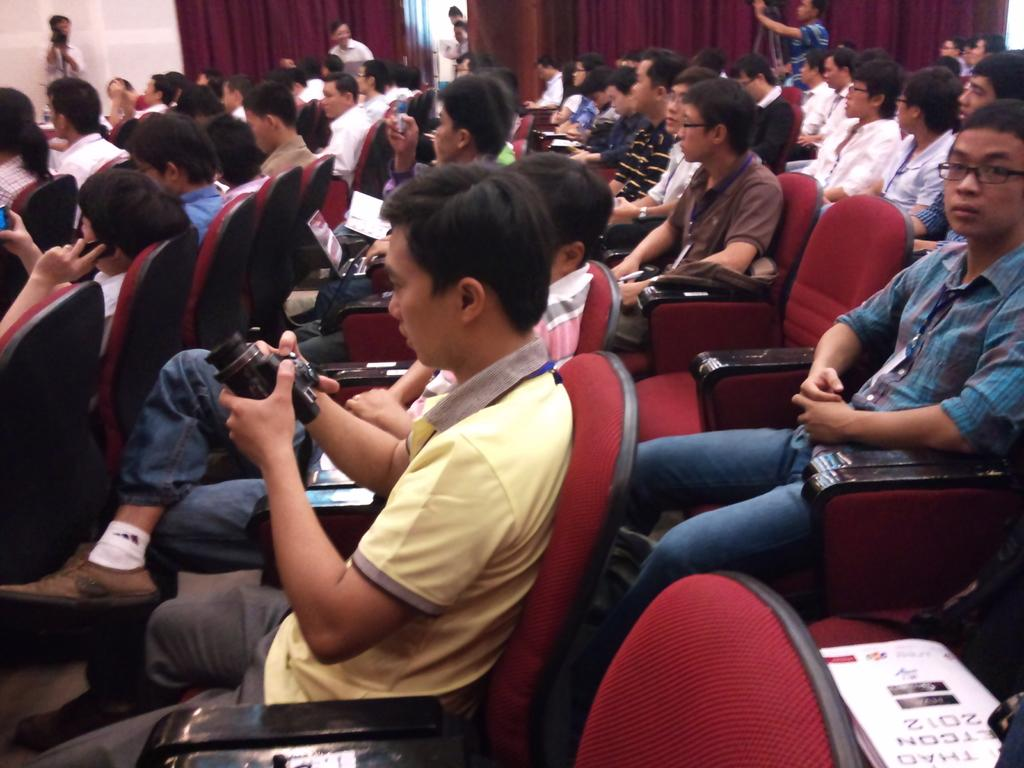Chair: (137, 348, 639, 767), (573, 568, 865, 767)
